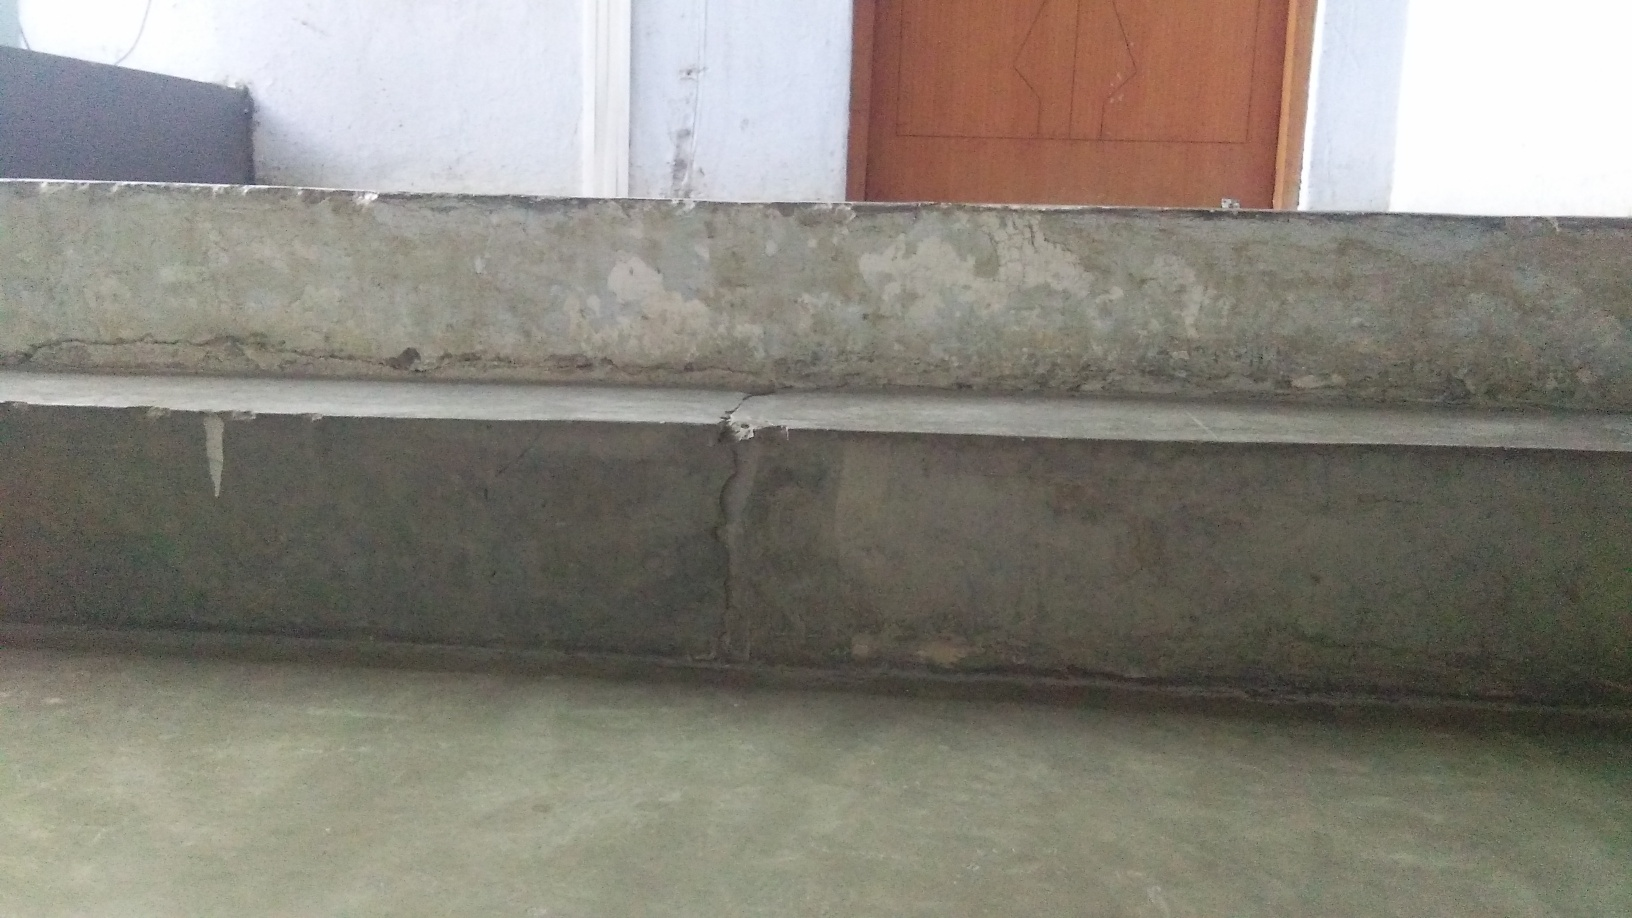stairs_up: (13, 167, 1625, 732)
